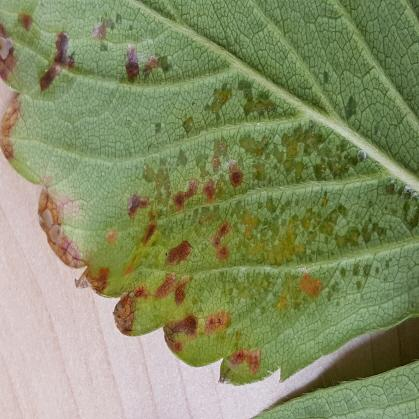Angular Leafspot: (0, 0, 418, 387)
